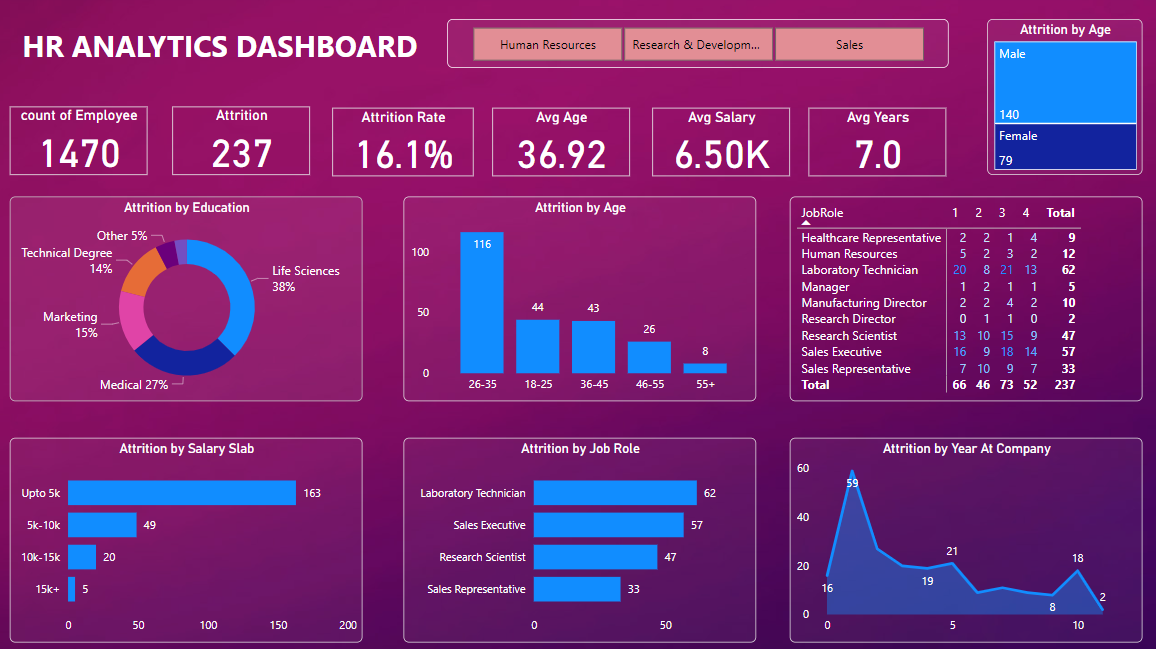

The dashboard page shown, as its layout file describes it:
{"tool":"powerbi","page":{"name":"Page 1","canvas":[1280,720],"ordinal":0},"visuals":[{"type":"card","title":" count of Employee","fields":{"Values":["Count(HR_Analytics (1).EmpID)"]},"box":[15.1,123.5,150.9,75.5],"z":0},{"type":"card","title":"Attrition Rate","fields":{"Values":["HR_Analytics (1).Attrition_rate"]},"box":[369.1,124.9,155.1,75.5],"z":1000},{"type":"card","title":"Avg Age","fields":{"Values":["Avg(HR_Analytics (1).Age)"]},"box":[544.8,124.9,150.9,75.5],"z":2000},{"type":"card","title":"Attrition","fields":{"Values":["Sum(HR_Analytics (1).attritionCount)"]},"box":[193.5,123.5,150.9,75.5],"z":3000},{"type":"card","title":"Avg Salary","fields":{"Values":["Avg(HR_Analytics (1).MonthlyIncome)"]},"box":[720.4,124.9,150.9,75.5],"z":4000},{"type":"card","title":"Avg Years","fields":{"Values":["Avg(HR_Analytics (1).YearsAtCompany)"]},"box":[891.9,124.9,150.9,75.5],"z":5000},{"type":"donutChart","title":"Attrition by Education","fields":{"Category":["HR_Analytics (1).EducationField"],"Y":["Sum(HR_Analytics (1).attritionCount)"]},"box":[15.1,222.8,387,225],"z":6000},{"type":"columnChart","title":"Attrition by Age","fields":{"Category":["HR_Analytics (1).AgeGroup"],"Y":["Sum(HR_Analytics (1).attritionCount)"]},"box":[447.3,222.8,387,225],"z":7000},{"type":"pivotTable","fields":{"Rows":["HR_Analytics (1).JobRole"],"Columns":["HR_Analytics (1).JobSatisfaction"],"Values":["Sum(HR_Analytics (1).attritionCount)"]},"box":[871.4,222.3,387,225],"z":8000},{"type":"barChart","title":"Attrition by Salary Slab","fields":{"Category":["HR_Analytics (1).SalarySlab"],"Y":["Sum(HR_Analytics (1).attritionCount)"]},"box":[15.1,486.6,387,225],"z":9000},{"type":"barChart","title":"Attrition by Job Role","fields":{"Category":["HR_Analytics (1).JobRole"],"Y":["Sum(HR_Analytics (1).attritionCount)"]},"box":[447.3,486.6,387,225],"z":10000},{"type":"areaChart","title":"Attrition by Year At Company","fields":{"Category":["HR_Analytics (1).YearsAtCompany"],"Y":["Sum(HR_Analytics (1).attritionCount)"]},"box":[871.4,486.6,387,225],"z":11000},{"type":"treemap","title":"Attrition by Age","fields":{"Group":["HR_Analytics (1).Gender"],"Values":["Sum(HR_Analytics (1).attritionCount)"]},"box":[1088.2,27.4,170.2,171.5],"z":12000},{"type":"slicer","fields":{"Values":["HR_Analytics (1).Department"]},"box":[495.4,27.4,550.3,53.5],"z":13000},{"type":"textbox","box":[15.1,30.2,480.3,79.6],"z":14000}]}

Visuals, with their boxes in screenshot pixels (x1, y1, x2, y2), scaled from the page's 1280x720 canvas onto the 1156x649 screenshot:
" count of Employee" card: <bbox>14, 111, 150, 179</bbox>
"Attrition Rate" card: <bbox>333, 113, 473, 181</bbox>
"Avg Age" card: <bbox>492, 113, 628, 181</bbox>
"Attrition" card: <bbox>175, 111, 311, 179</bbox>
"Avg Salary" card: <bbox>651, 113, 787, 181</bbox>
"Avg Years" card: <bbox>805, 113, 942, 181</bbox>
"Attrition by Education" donutChart: <bbox>14, 201, 363, 404</bbox>
"Attrition by Age" columnChart: <bbox>404, 201, 753, 404</bbox>
pivotTable - HR_Analytics (1).JobRole x HR_Analytics (1).JobSatisfaction: <bbox>787, 200, 1136, 403</bbox>
"Attrition by Salary Slab" barChart: <bbox>14, 439, 363, 641</bbox>
"Attrition by Job Role" barChart: <bbox>404, 439, 753, 641</bbox>
"Attrition by Year At Company" areaChart: <bbox>787, 439, 1136, 641</bbox>
"Attrition by Age" treemap: <bbox>983, 25, 1136, 179</bbox>
slicer - HR_Analytics (1).Department: <bbox>447, 25, 944, 73</bbox>
textbox: <bbox>14, 27, 447, 99</bbox>
